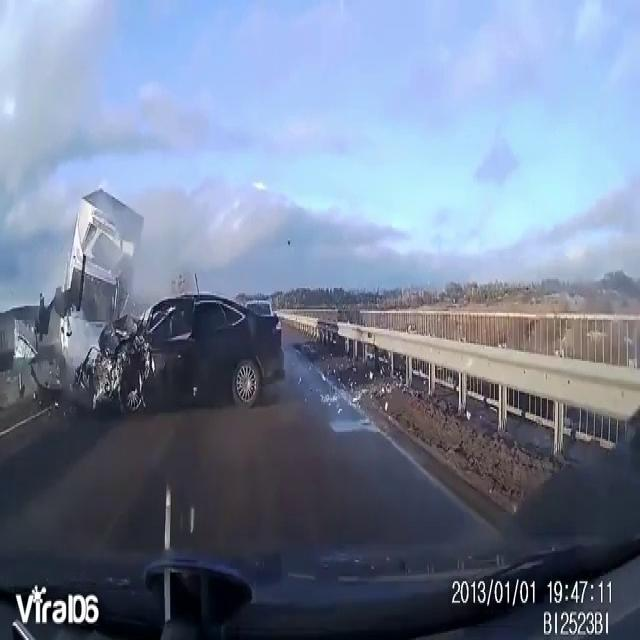severe: (39, 176, 288, 423)
